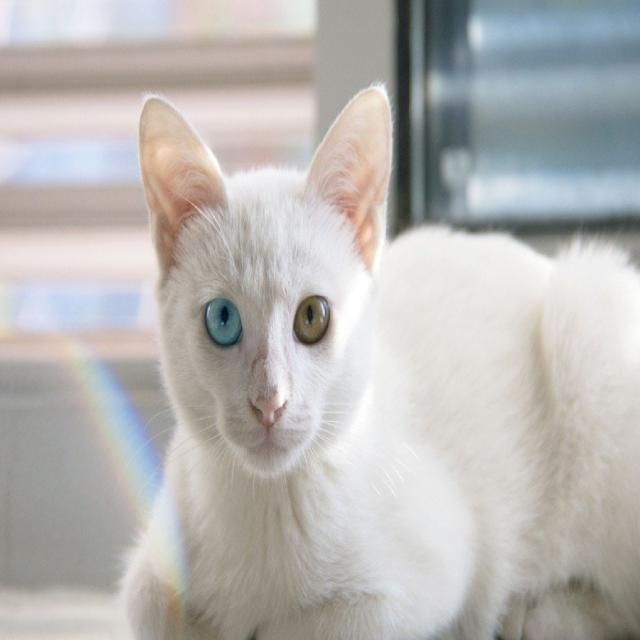Khao Manee: (114, 77, 640, 640)
